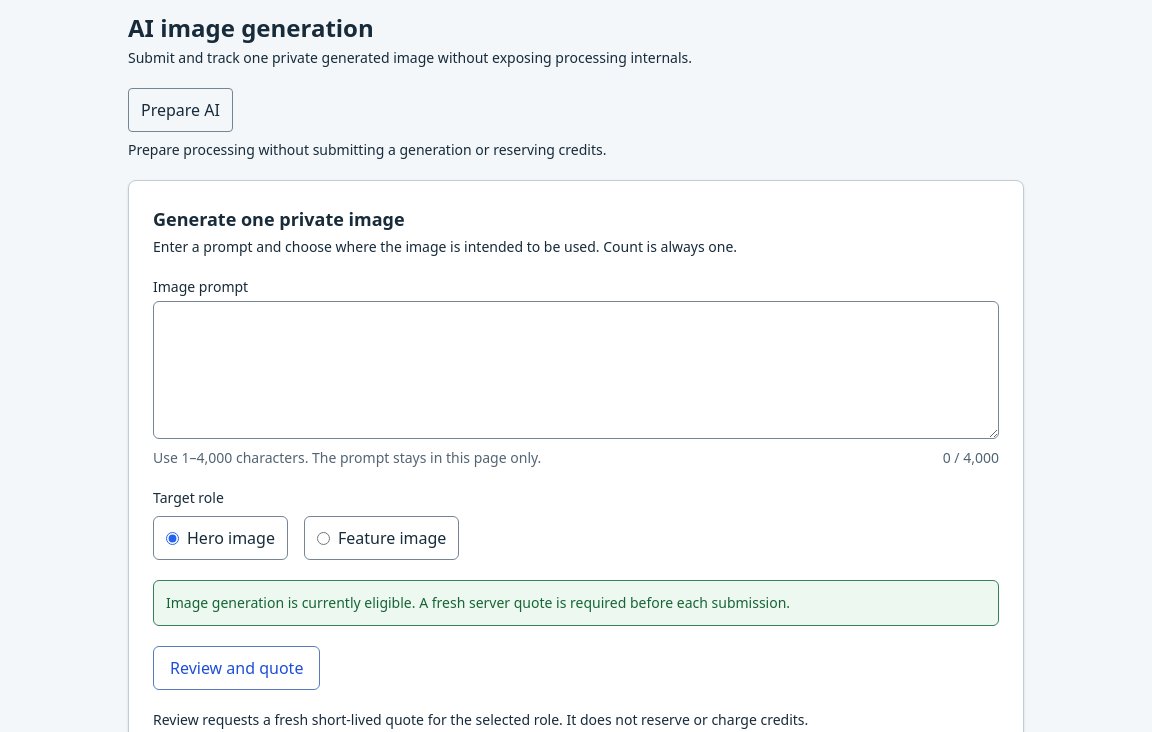
Test: AI image page › requests and renders an exact fractional quote before enabling submission
Check: the heading "AI image generation" is shown, box [128,11,374,44]
Type "Private launch visual" into the text box labelled "Image prompt" at (576, 370), box [153,301,999,439]
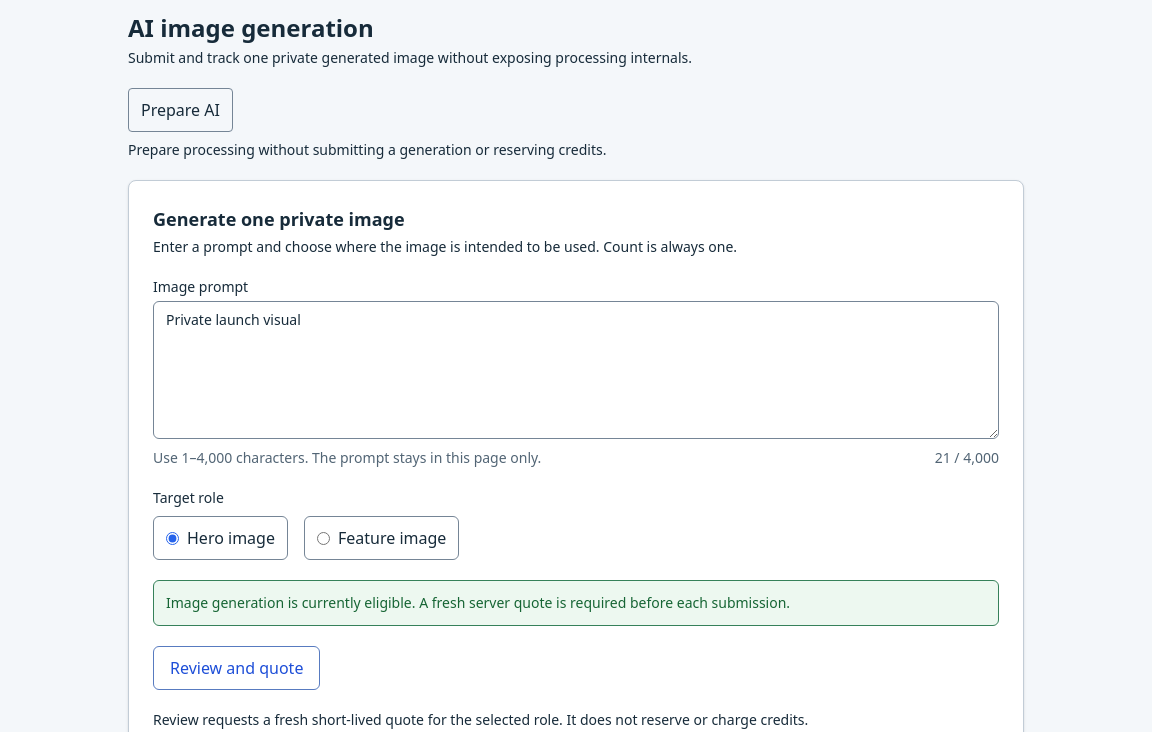
Click the radio button labelled "Feature image" at (323, 538), box [317,532,330,544]
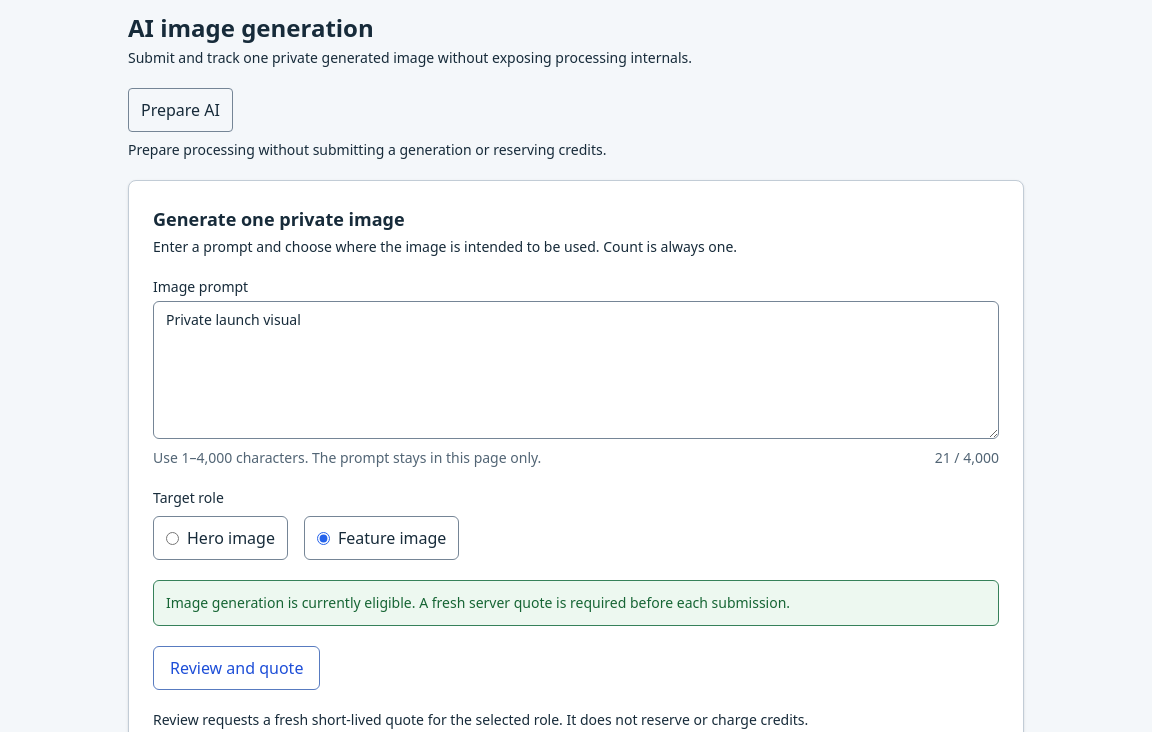
Click the button "Review and quote" at (237, 668), box [153,646,320,690]
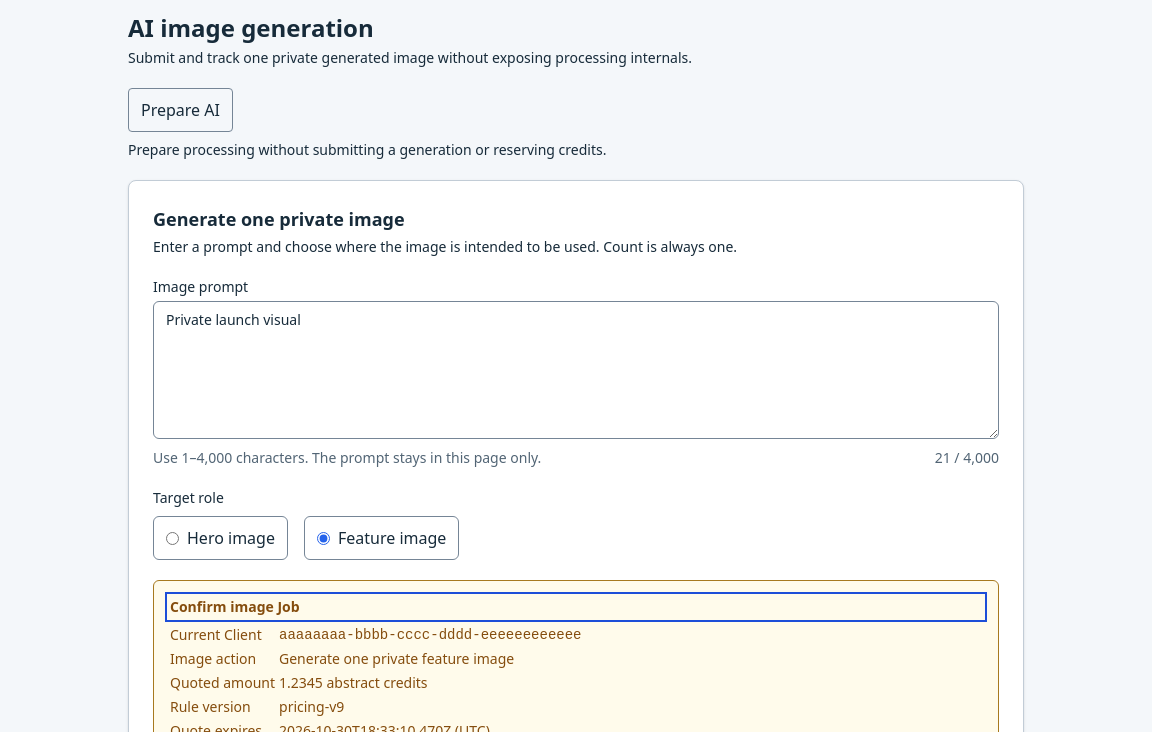
Check: the heading "Confirm image Job" is shown, box [170,597,300,616]
Check: the text "1.2345 abstract credits" is shown, box [279,673,428,692]
Check: the text "pricing-v9" is shown, box [279,697,344,716]
